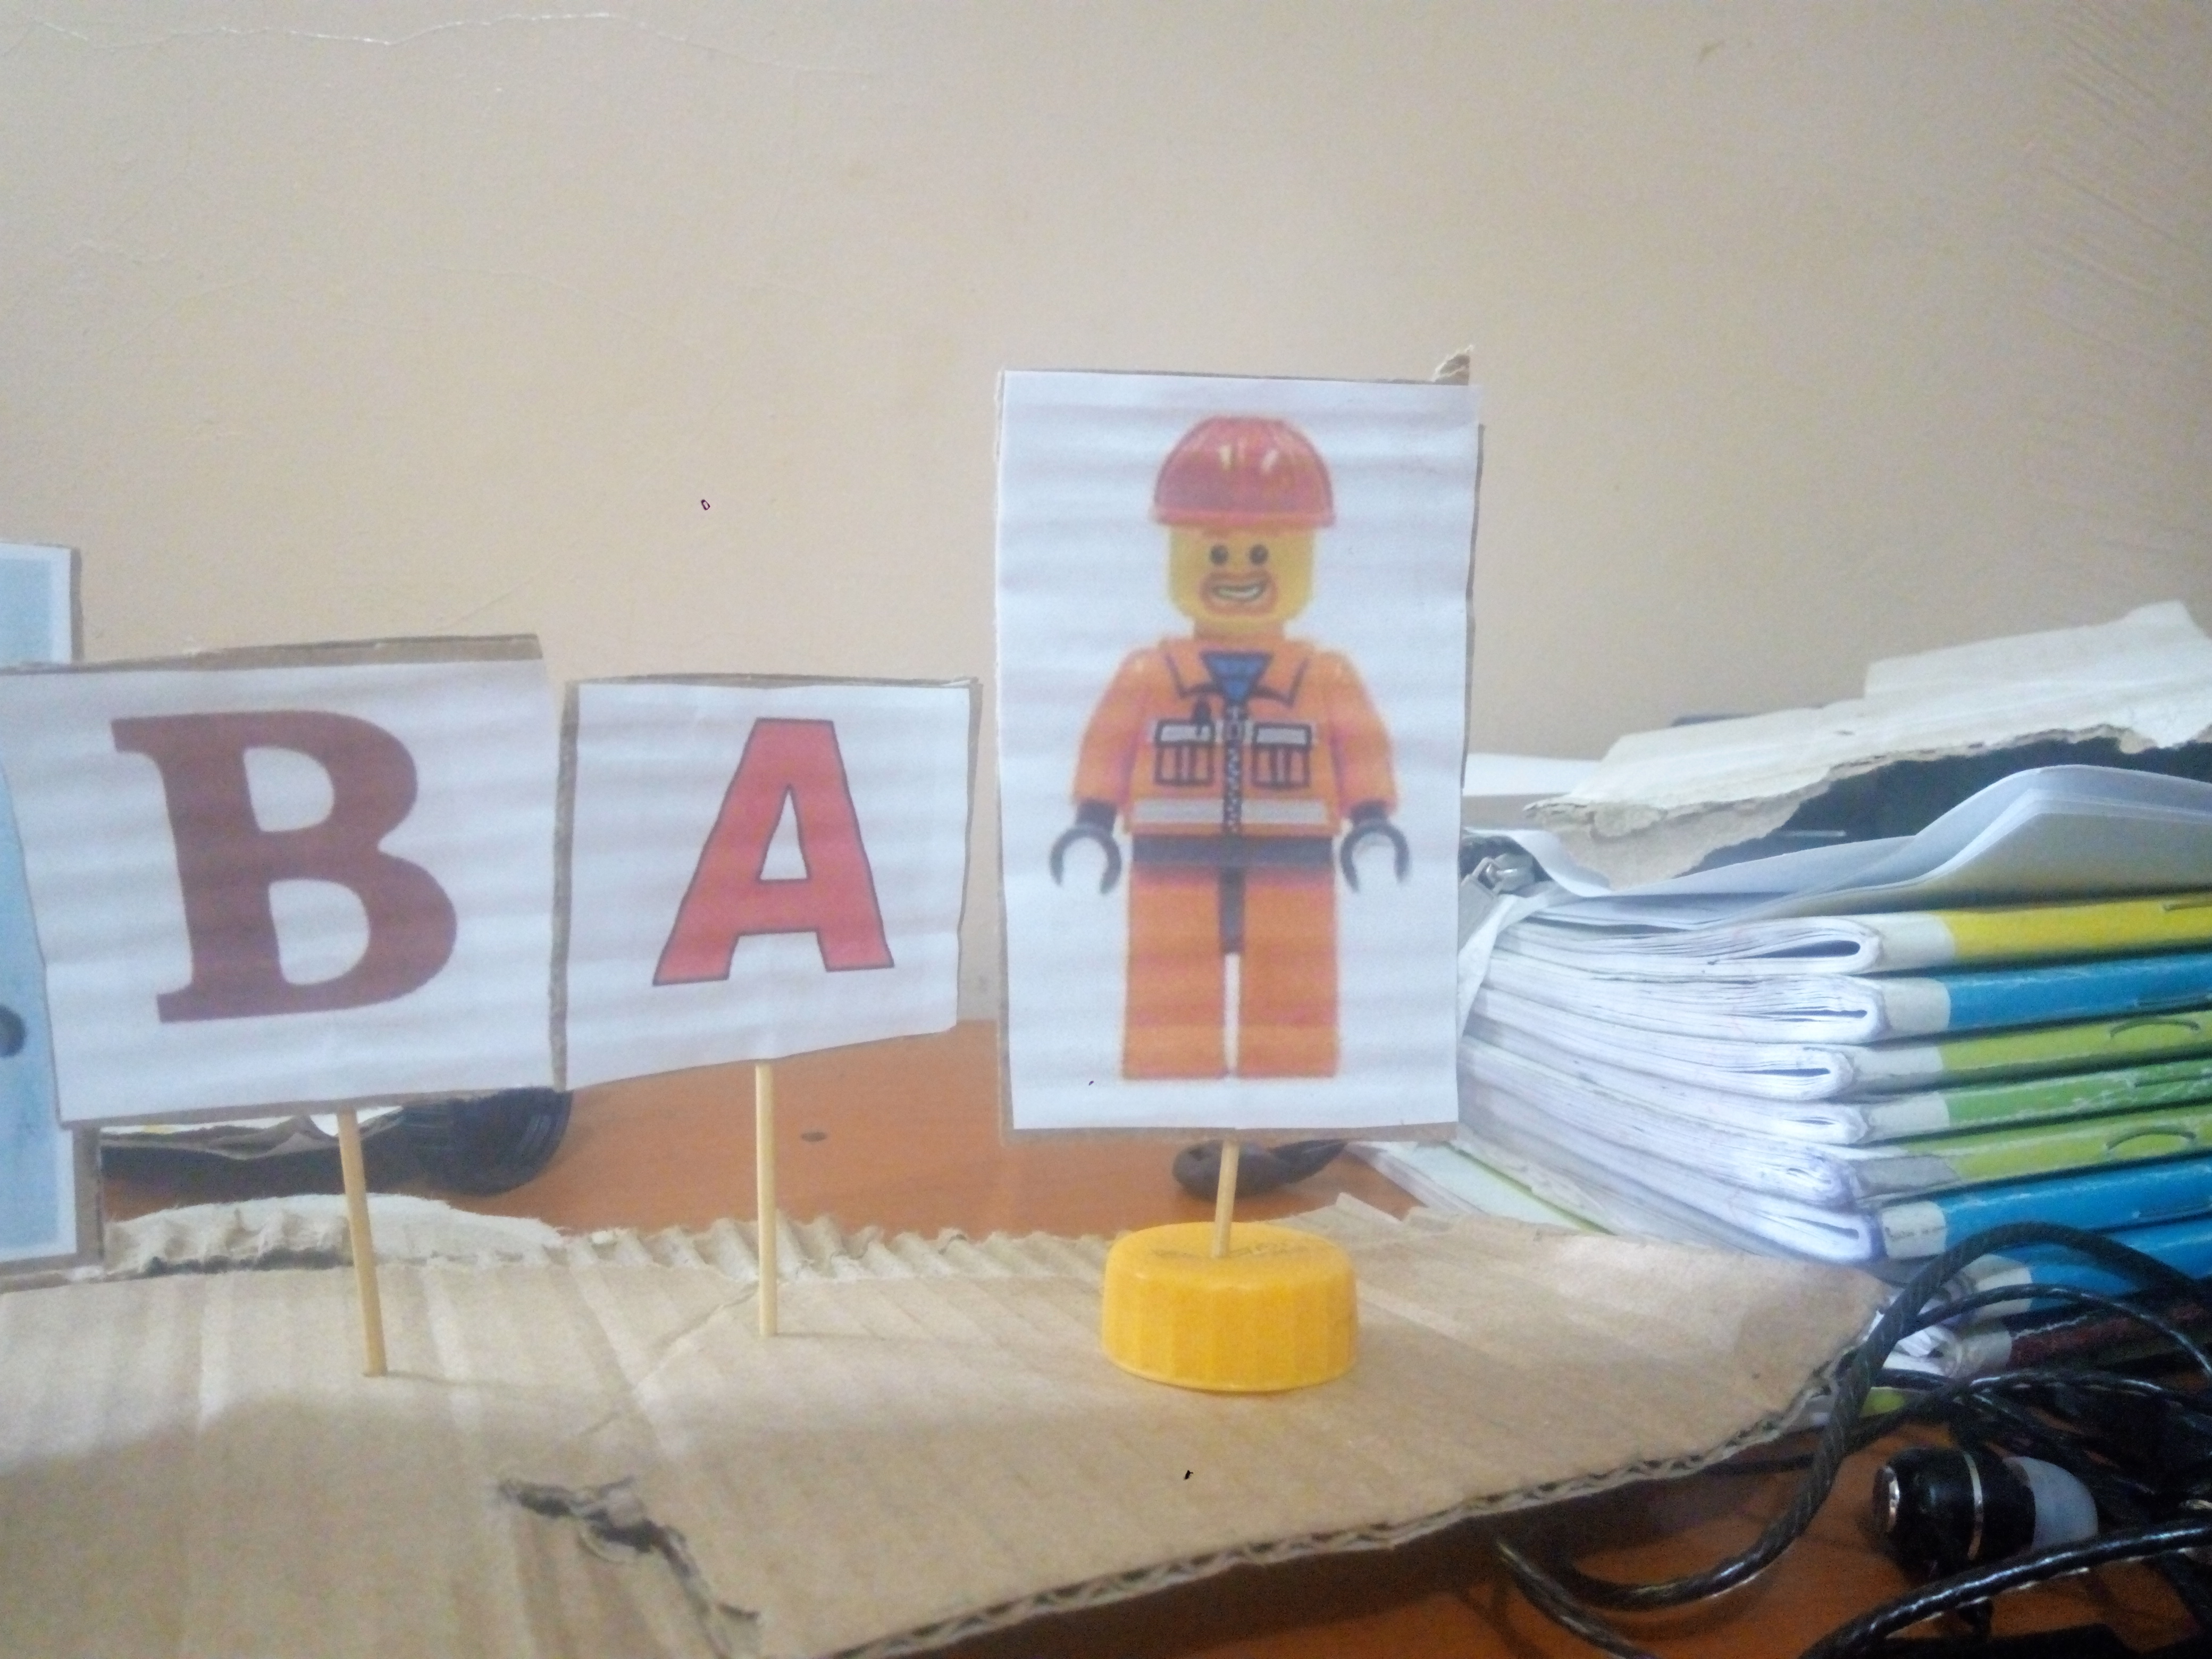pedestrian: (1040, 393, 1427, 1105)
zone A: (619, 692, 941, 1009)
zone B: (75, 690, 503, 1080)
